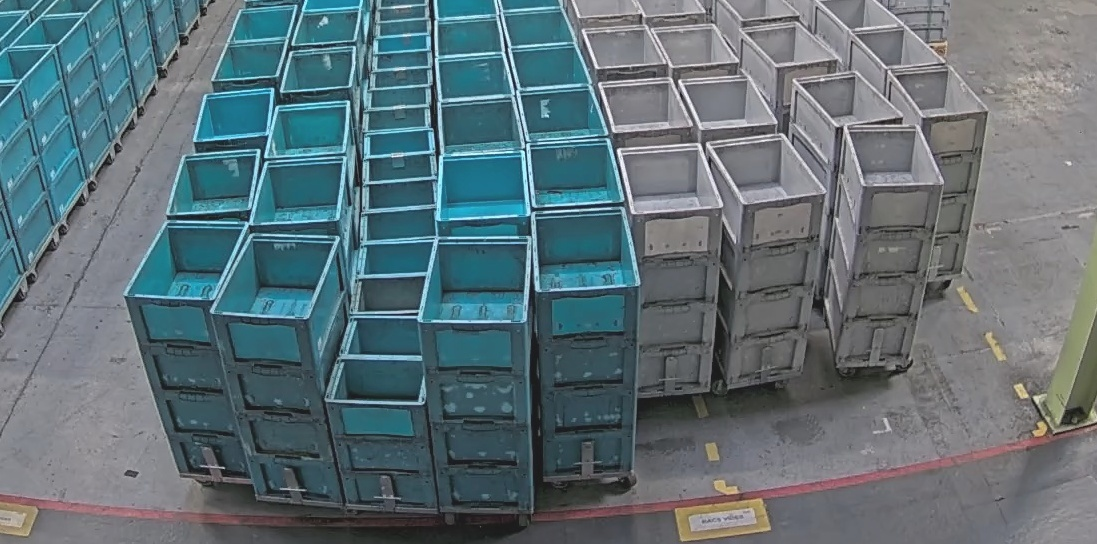4G: (705, 132, 827, 387), (822, 123, 945, 363), (617, 142, 724, 394), (885, 64, 989, 277)
B4: (208, 230, 351, 505), (120, 219, 252, 482), (416, 234, 534, 514), (528, 205, 643, 476)
B8: (323, 314, 443, 511)
